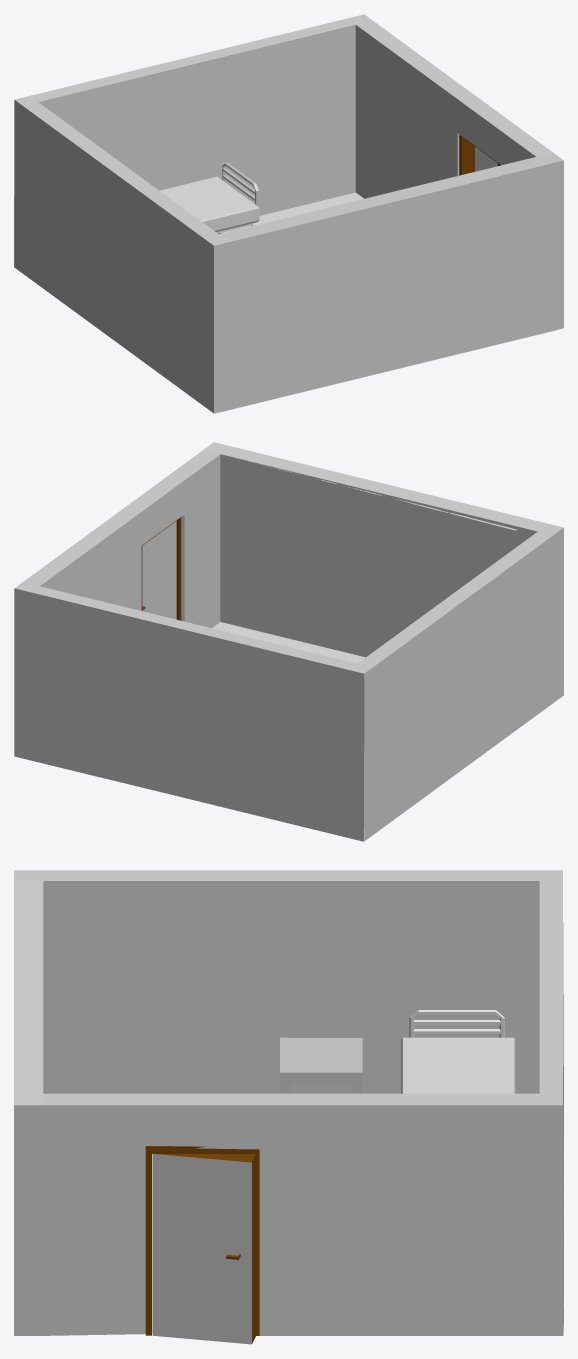
Rendered from Habitacion.fbx.
The picture shows the model from 3 angles, top to bottom: view 1: azimuth 30°, elevation 25°; view 2: azimuth 150°, elevation 25°; view 3: azimuth 270°, elevation 25°; orthographic projection. The views are drawn at different scales.
Visible parts, largest first — view 1: Paredes, Cama, Piso, Marco de puerta; view 2: Paredes, Puerta, Piso, Marco de puerta; view 3: Paredes, Puerta, Cama, Mesa, Marco de puerta.
Boxes of the visible parts, x1=… form: Paredes: x1=14, y1=14, x2=563, y2=413; Cama: x1=160, y1=162, x2=259, y2=233; Piso: x1=217, y1=192, x2=557, y2=413; Marco de puerta: x1=459, y1=135, x2=500, y2=175; Paredes: x1=14, y1=442, x2=563, y2=841; Puerta: x1=142, y1=521, x2=176, y2=619; Piso: x1=212, y1=622, x2=365, y2=838; Marco de puerta: x1=141, y1=517, x2=181, y2=620; Paredes: x1=14, y1=870, x2=563, y2=1335; Puerta: x1=152, y1=1154, x2=255, y2=1344; Cama: x1=401, y1=1010, x2=515, y2=1093; Mesa: x1=280, y1=1037, x2=362, y2=1093; Marco de puerta: x1=145, y1=1146, x2=259, y2=1335.
Size of the model in its own units: 211 by 93.18 by 200.
